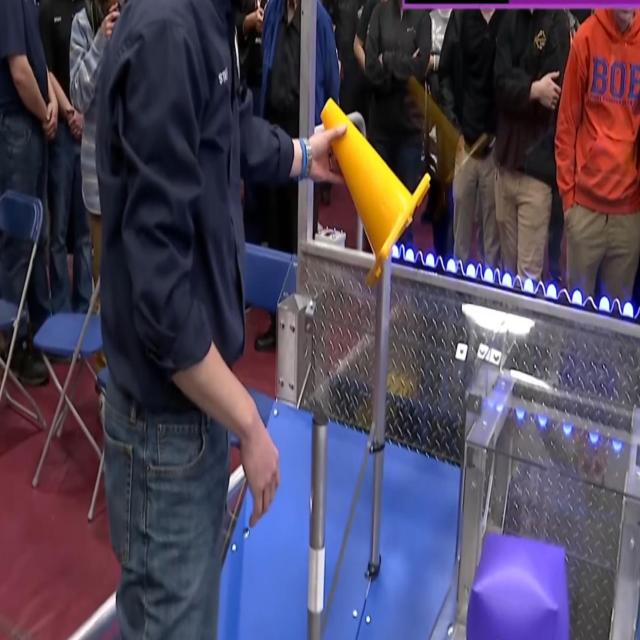frc_cone: (319, 92, 433, 290)
frc_cube: (469, 536, 569, 640)
